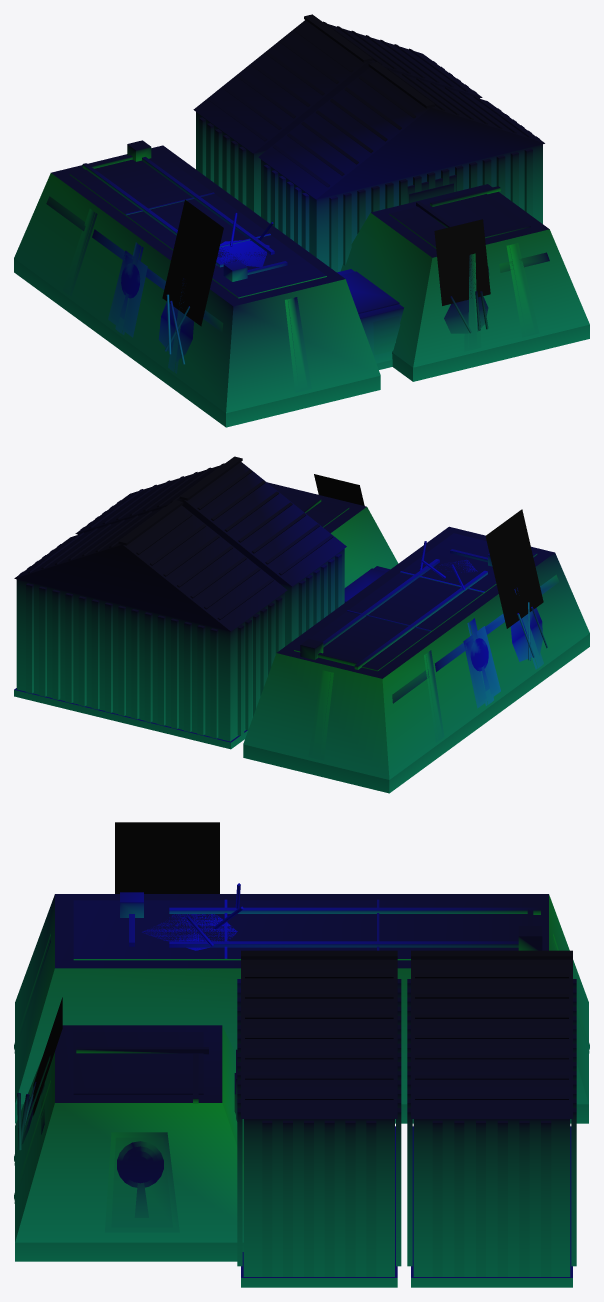
The model's file is hpg_gen_damaged.glb.
3 renders of one model, top to bottom at view 1: azimuth 30°, elevation 25°; view 2: azimuth 150°, elevation 25°; view 3: azimuth 270°, elevation 25°, orthographic. The views are drawn at different scales.
Visible parts, largest first — view 1: lod0; view 2: lod0; view 3: lod0.
Boxes of the visible parts, x1,y1,x2,y2 form: lod0: [14, 14, 589, 427]; lod0: [14, 456, 589, 793]; lod0: [14, 822, 589, 1287].
Size of what is drawn, in the model's own units: 23.89 by 10.73 by 21.68.
